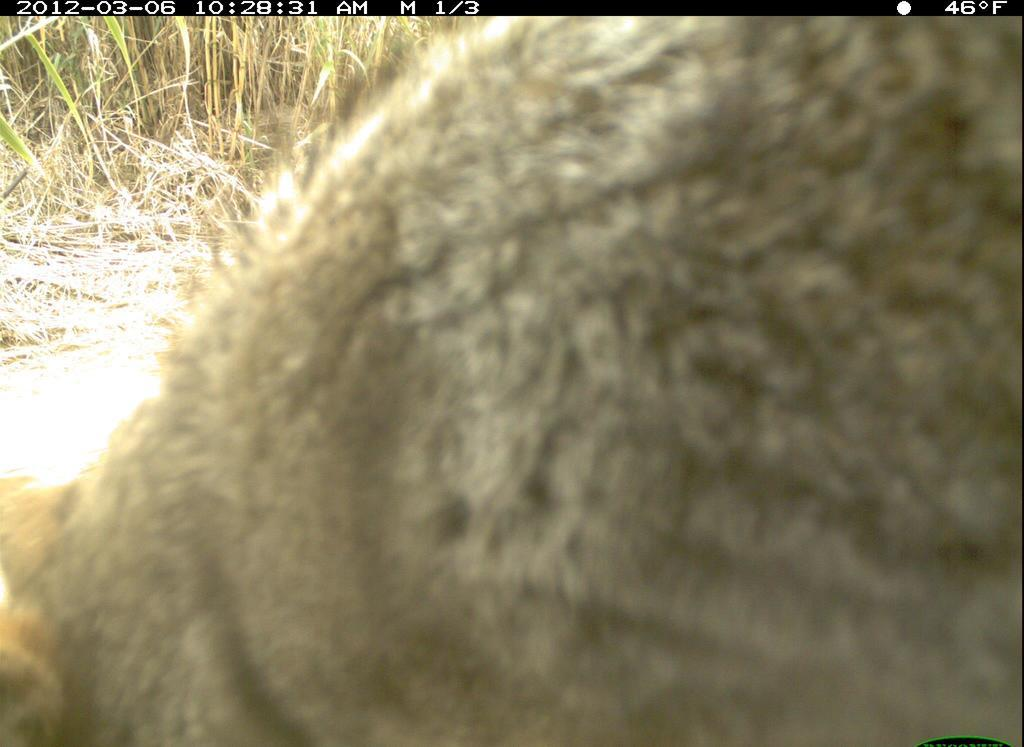coyote: (9, 9, 1023, 743)
